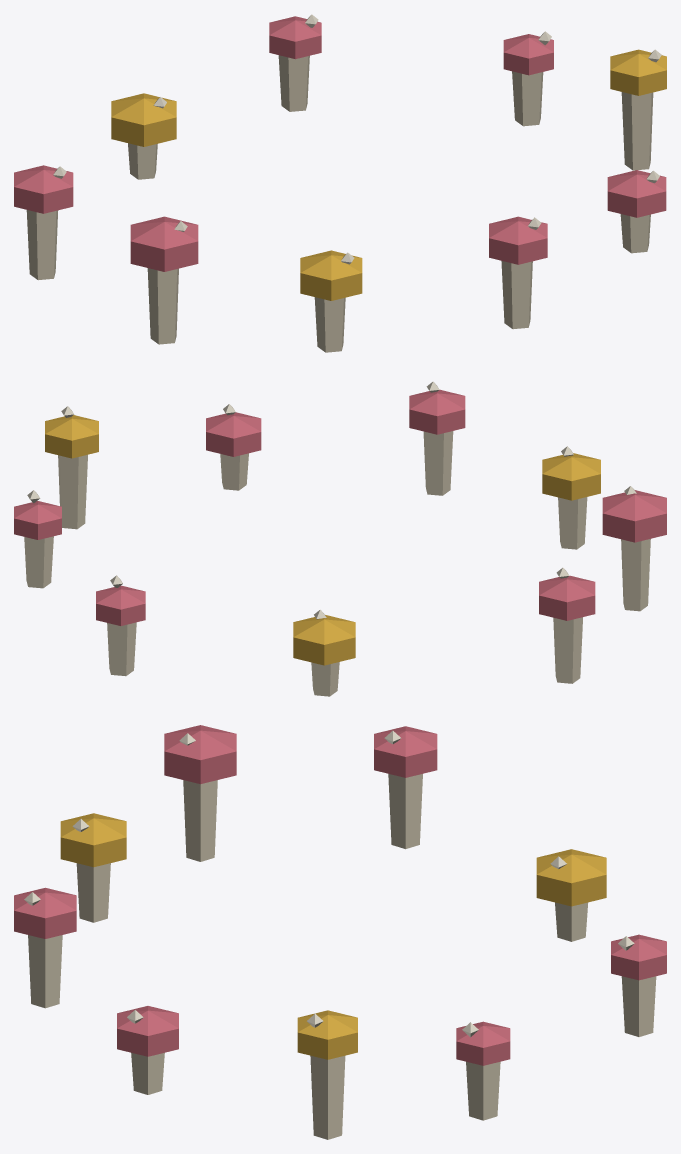
The model's file is mushroom_ring.glb.
The picture shows the model from 3 angles, top to bottom: view 1: azimuth 30°, elevation 25°; view 2: azimuth 150°, elevation 25°; view 3: azimuth 270°, elevation 25°; orthographic projection. The views are drawn at different scales.
Parts seen in each view (by area): view 1: mushroom_ring; view 2: mushroom_ring; view 3: mushroom_ring.
Boxes of the visible parts, box(x1,y1,x2,y2) form: mushroom_ring: box(14, 14, 666, 352); mushroom_ring: box(14, 381, 666, 696); mushroom_ring: box(14, 725, 666, 1139).
Bounding box in the file's own units: 1.78 × 0.3321 × 1.53.
